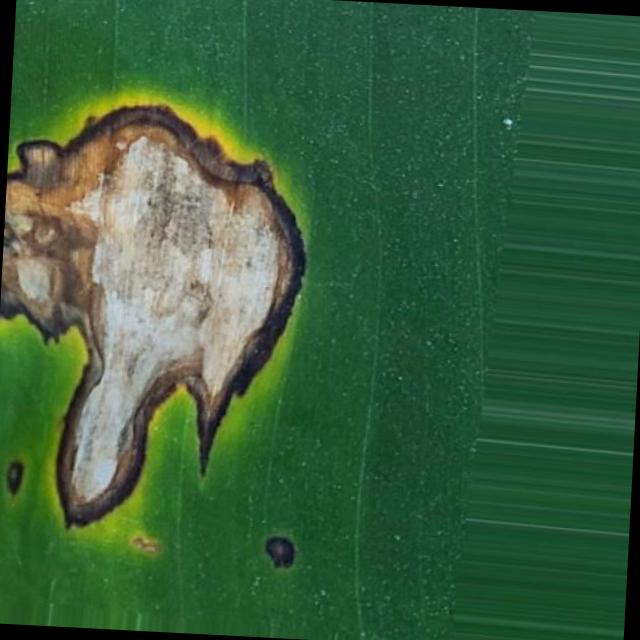Banana_Black_Sigatoka: (0, 56, 342, 546)
